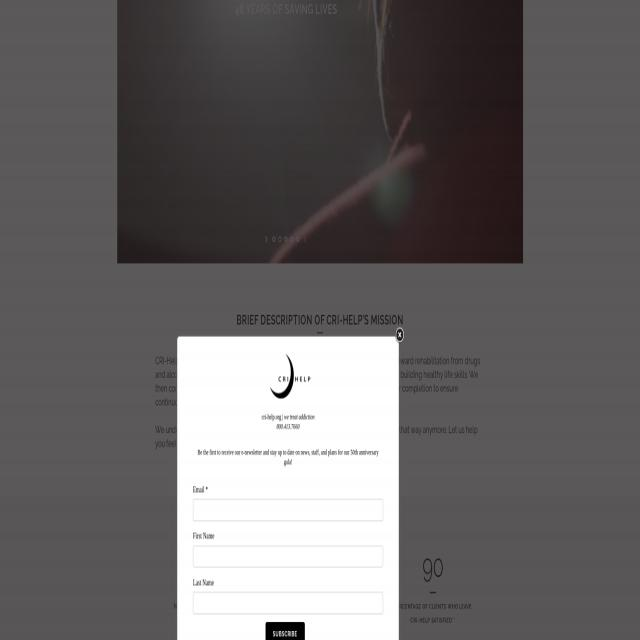button: (262, 351, 314, 400), (266, 621, 304, 640), (396, 327, 404, 343)
field: (193, 499, 383, 521), (193, 592, 383, 614), (193, 546, 383, 567)
